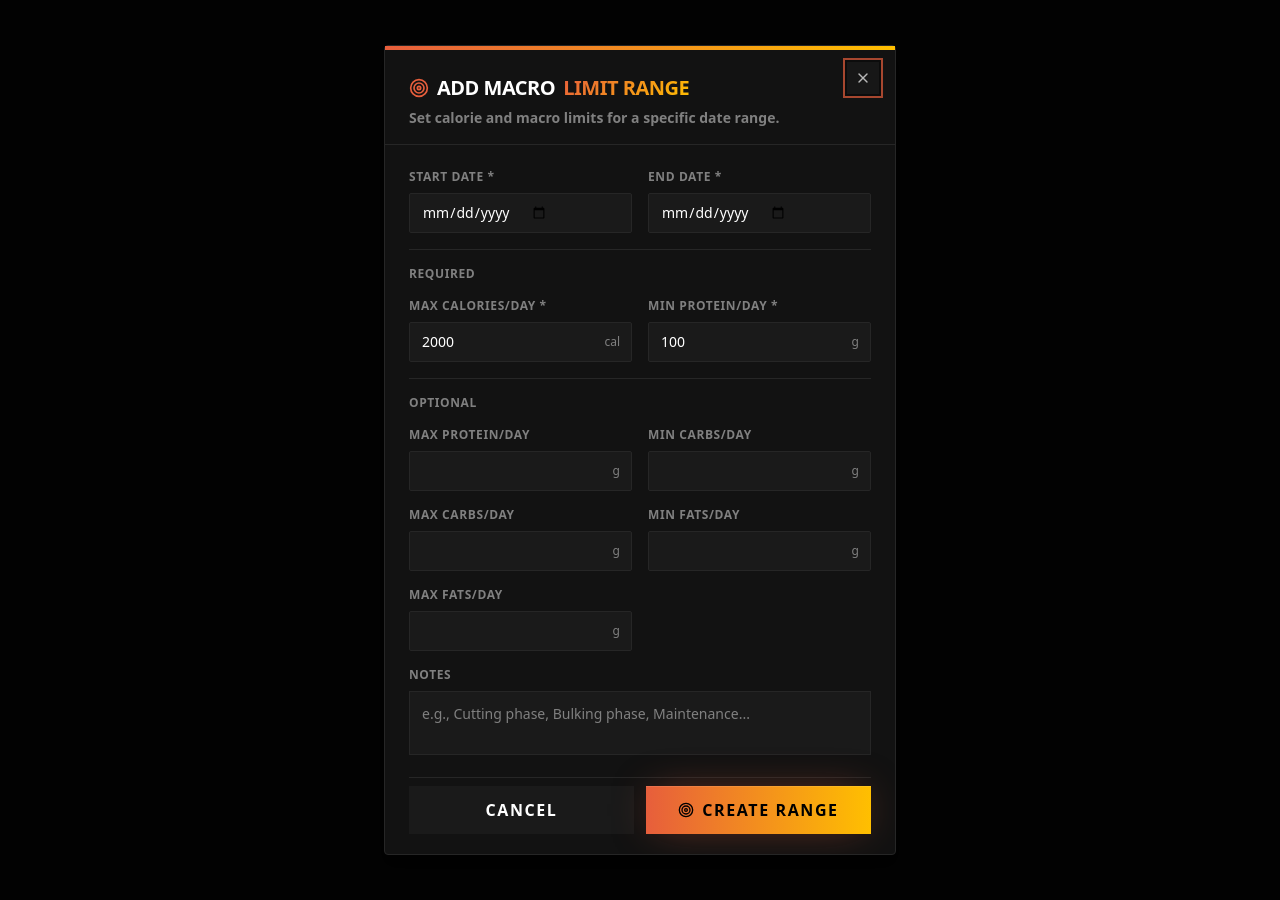
Test case: AddLimitRangeModal › Date Overlap Detection › shows warning when dates overlap with existing range
Type "2026-02-01" into the date field labelled "Start Date *" at (520, 213), box [409,193,632,233]
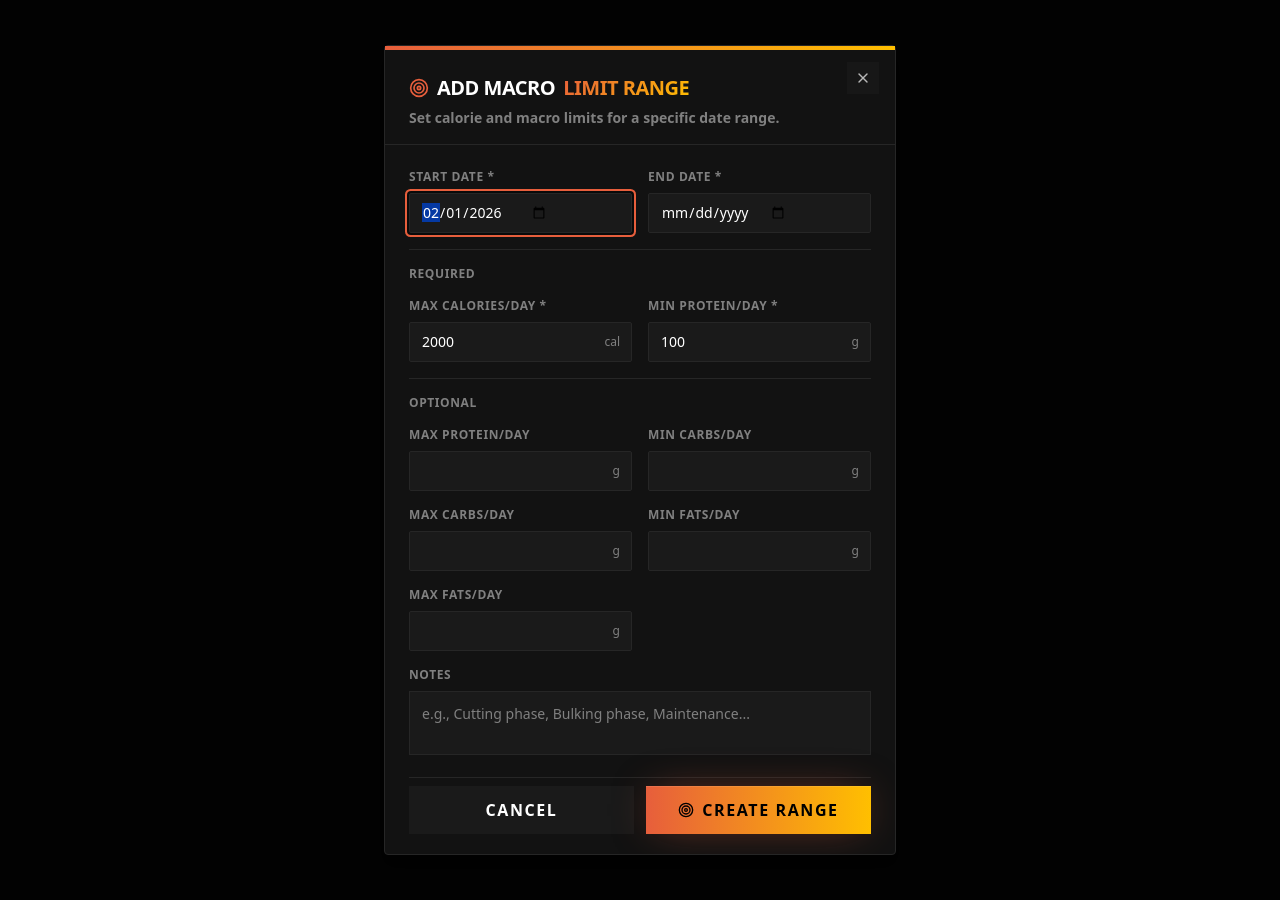
Type "2026-02-28" into the date field labelled "End Date *" at (760, 213), box [648,193,871,233]
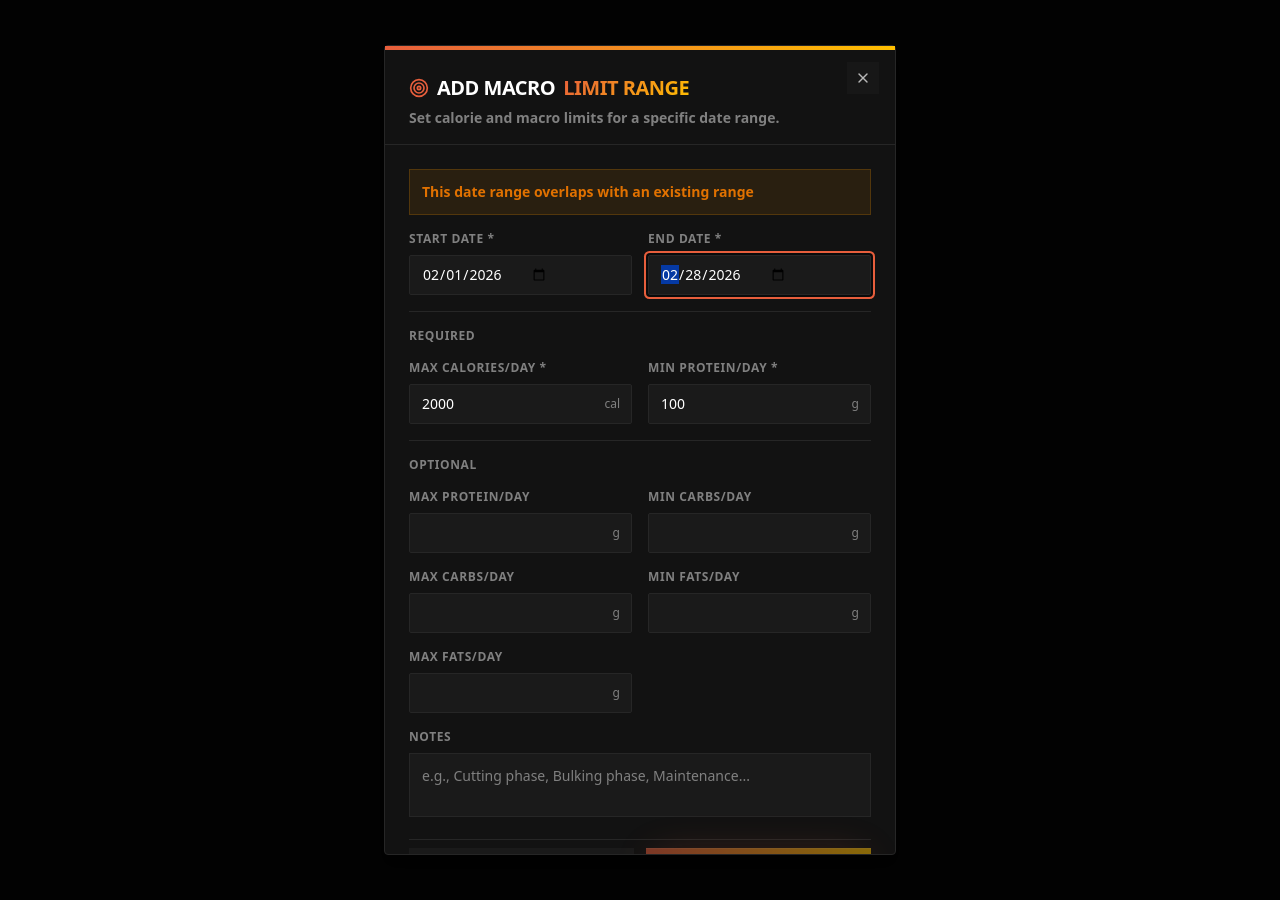
expect the text "This date range overlaps with an existing range" is shown: met, box [409,169,871,215]
